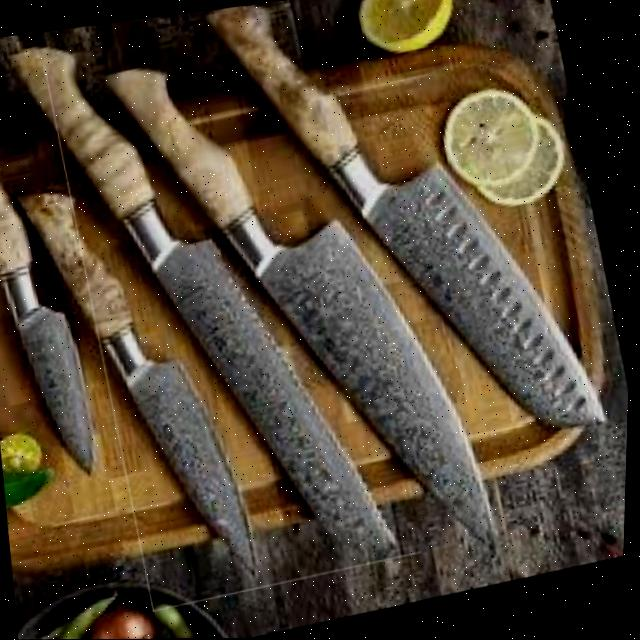knife: (0, 6, 416, 595), (93, 27, 513, 591), (200, 0, 620, 470), (8, 163, 272, 597), (0, 98, 107, 487)
